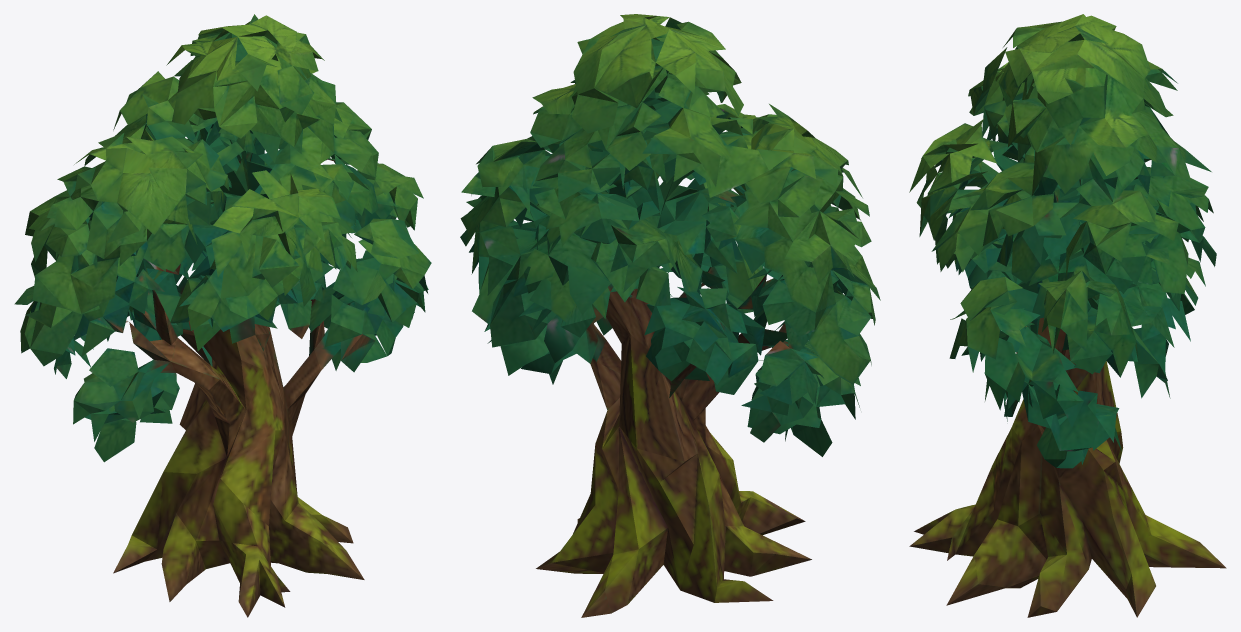
File: tree_mossy.glb
3 views of the same model, side by side, from view 1: azimuth 30°, elevation 25°; view 2: azimuth 150°, elevation 25°; view 3: azimuth 270°, elevation 25° (orthographic). The views are drawn at different scales.
Size of the model in its own units: 1.46 by 1.89 by 0.9806.
1 material, 1 textured.
